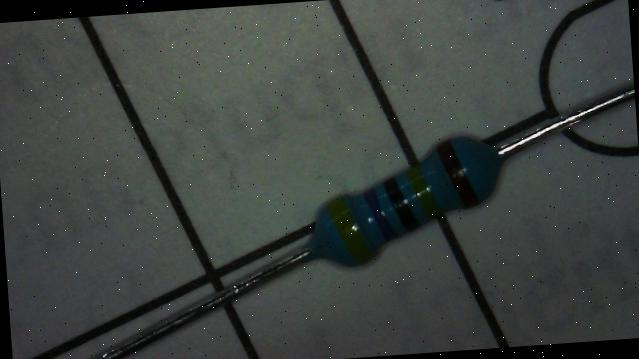black: (382, 174, 419, 232)
brown: (436, 138, 478, 209)
resistor: (294, 117, 510, 284)
violet: (364, 186, 397, 241)
yellow: (326, 194, 371, 265), (404, 162, 439, 218)
